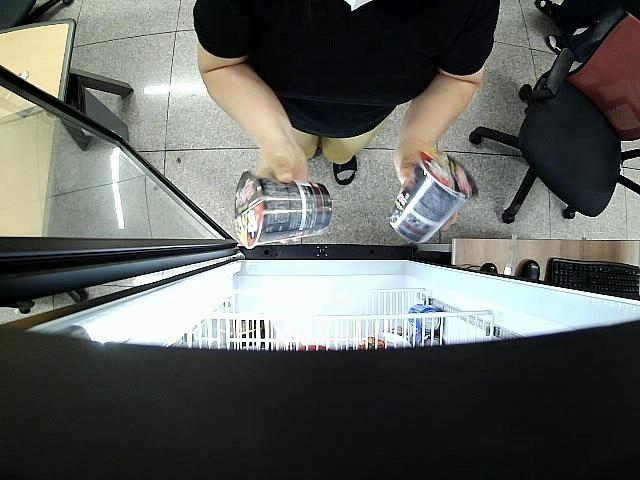08_buldak_S: (391, 152, 478, 244), (236, 171, 334, 248)
